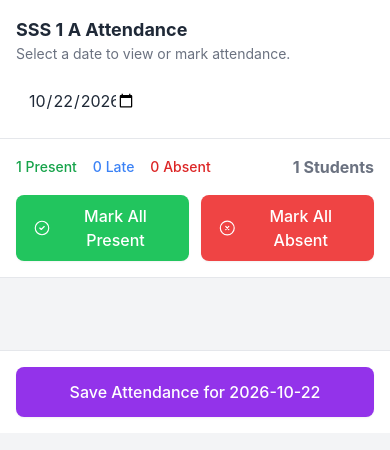
it: TeacherMarkAttendanceScreen date switching › shows each date's own saved record instead of a stale local draft
The image size is (390, 450).
In the date field: point(96, 101) [16,80,176,122], type "2026-08-04"
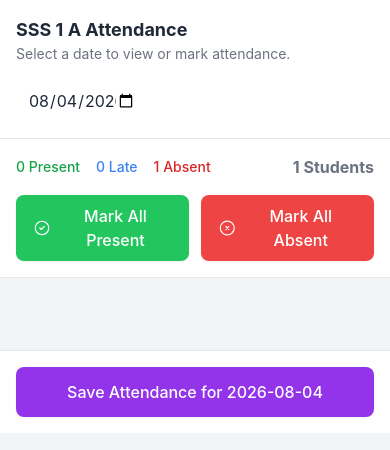
In the date field: point(96, 101) [16,80,176,122], type "2026-08-05"
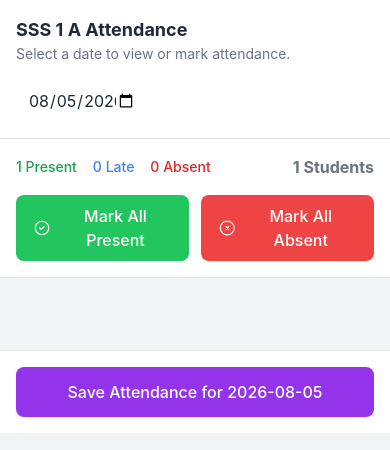
In the date field: point(96, 101) [16,80,176,122], type "2026-08-04"
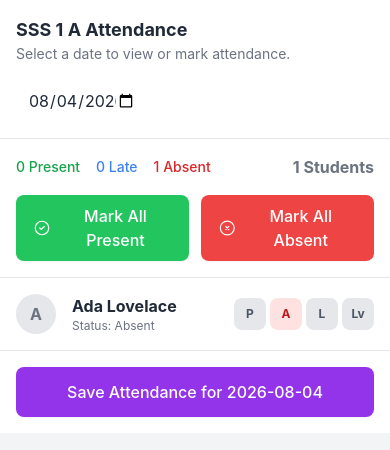
Result: the text "Status: Absent" is shown at [72,318,155,333]
